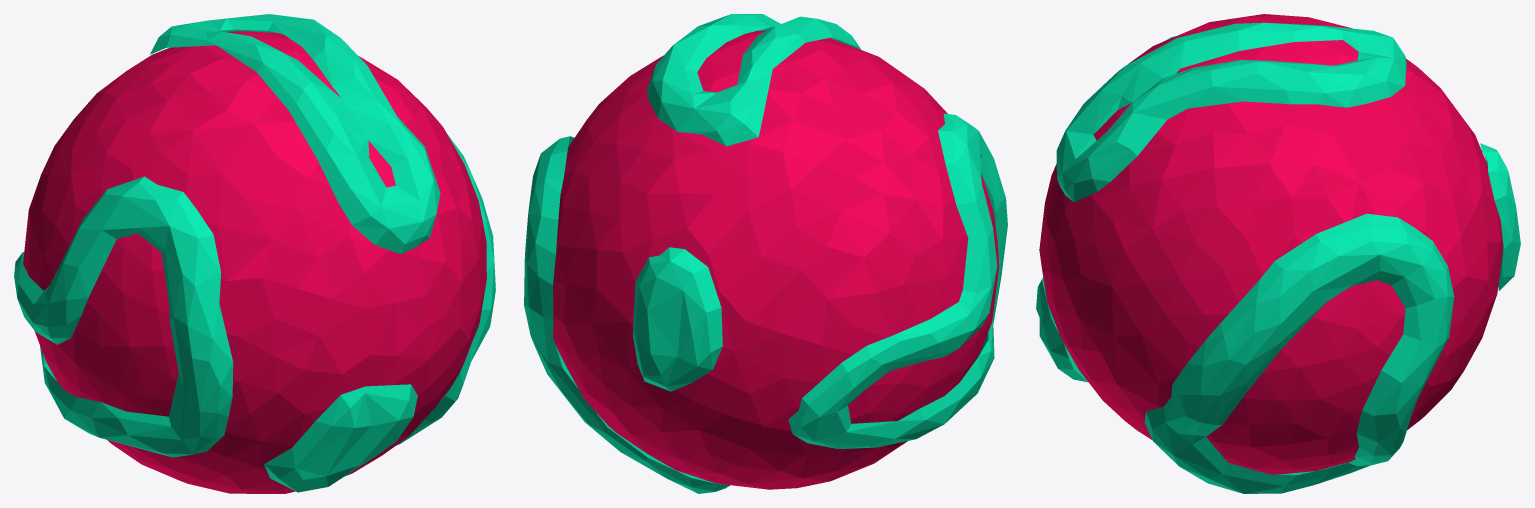
File: planet_8.fbx
3 views of the same model, side by side, from view 1: azimuth 30°, elevation 25°; view 2: azimuth 150°, elevation 25°; view 3: azimuth 270°, elevation 25° (orthographic).
Parts seen in each view (by area): view 1: planet_8; view 2: planet_8; view 3: planet_8.
Part boxes in pixels (box(x1,y1,x2,y2)): planet_8: box(14, 14, 495, 493); planet_8: box(524, 14, 1007, 493); planet_8: box(1036, 14, 1520, 493).
Bounding box in the file's own units: 650 × 668 × 648.
